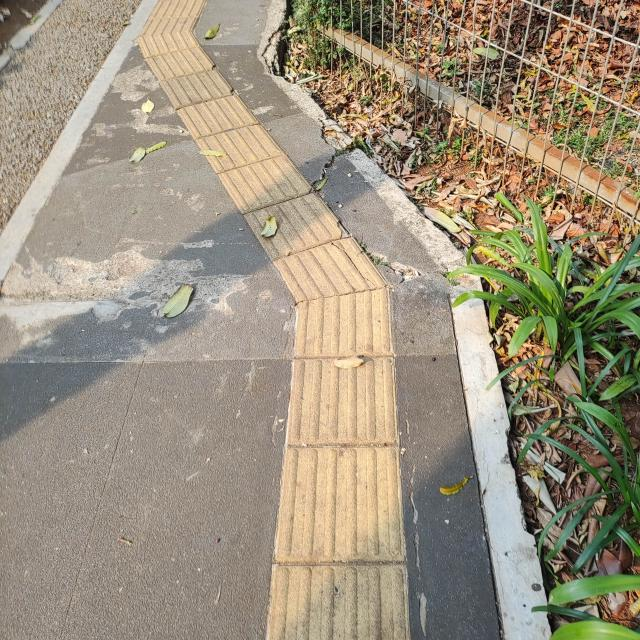lurus: (271, 325, 407, 640), (173, 60, 351, 282)
